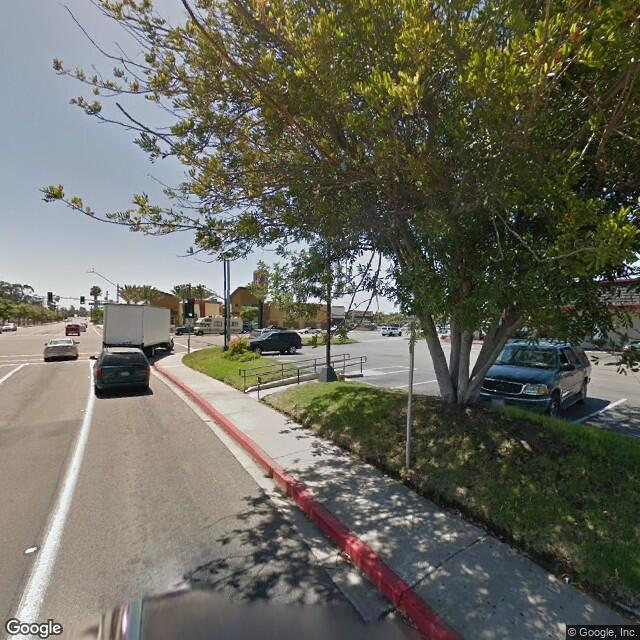litter: (558, 574, 573, 584)
